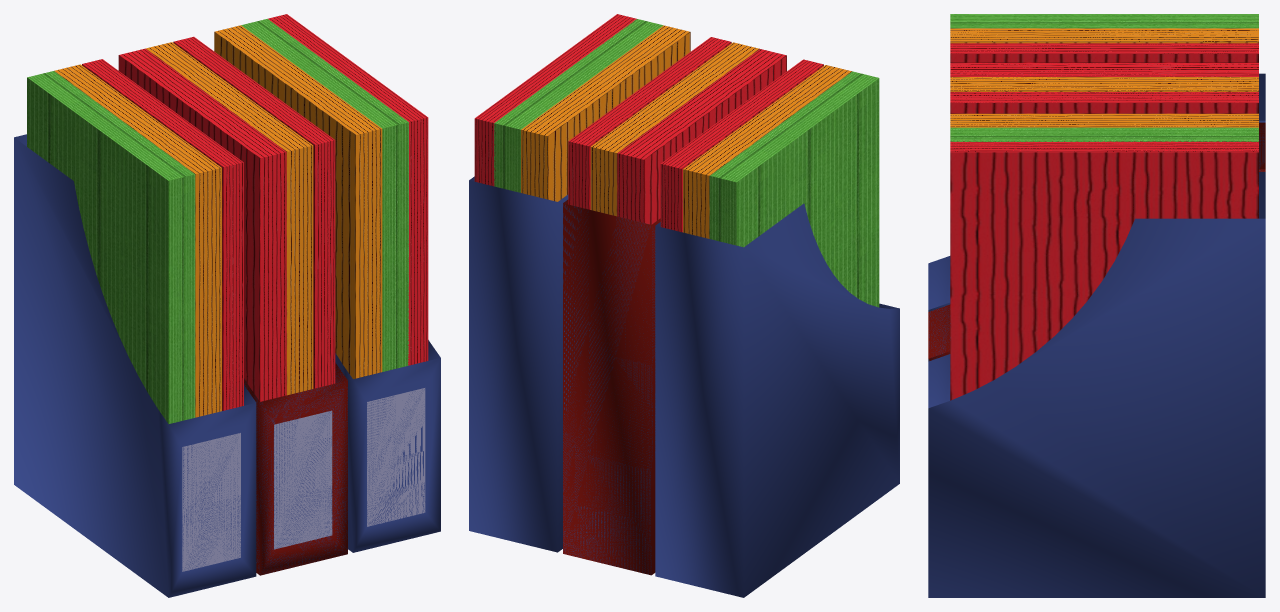
File: boxfile.dae
3 views of the same model, side by side, from view 1: azimuth 30°, elevation 25°; view 2: azimuth 150°, elevation 25°; view 3: azimuth 270°, elevation 25° (orthographic). The views are drawn at different scales.
Visible parts, largest first — view 1: group_1 (×2), group_11, group_8, group_10 (×2), group_4 (×2), group_12, group_7, group_5, group_2, group_9, group_3, group_6; view 2: group_1, group_10, group_4, group_11, group_8, group_12, group_7, group_2, group_5, group_3, group_9, group_6; view 3: group_10, group_6, group_9, group_3, group_5, group_2, group_7, group_8, group_11, group_12, group_4, group_1.
Part boxes in pixels (bbox=[...]): group_1 (×2): bbox=[14, 134, 256, 597]; group_11: bbox=[27, 71, 195, 423]; group_8: bbox=[214, 25, 382, 378]; group_10 (×2): bbox=[335, 340, 440, 552]; group_4 (×2): bbox=[244, 362, 347, 575]; group_12: bbox=[118, 48, 286, 401]; group_7: bbox=[145, 42, 313, 395]; group_5: bbox=[54, 64, 221, 417]; group_2: bbox=[241, 19, 408, 371]; group_9: bbox=[173, 36, 335, 388]; group_3: bbox=[82, 59, 243, 410]; group_6: bbox=[268, 14, 428, 365]; group_1: bbox=[655, 203, 899, 597]; group_10: bbox=[469, 176, 568, 552]; group_4: bbox=[563, 199, 660, 575]; group_11: bbox=[709, 71, 879, 307]; group_8: bbox=[521, 25, 690, 201]; group_12: bbox=[617, 49, 786, 224]; group_7: bbox=[590, 42, 759, 216]; group_2: bbox=[494, 19, 663, 192]; group_5: bbox=[683, 65, 851, 238]; group_3: bbox=[660, 59, 823, 232]; group_9: bbox=[568, 37, 731, 209]; group_6: bbox=[474, 14, 637, 186]; group_10: bbox=[928, 172, 1265, 597]; group_6: bbox=[950, 141, 1258, 400]; group_9: bbox=[950, 92, 1258, 113]; group_3: bbox=[950, 43, 1258, 62]; group_5: bbox=[950, 28, 1258, 43]; group_2: bbox=[950, 127, 1258, 141]; group_7: bbox=[950, 77, 1258, 91]; group_8: bbox=[950, 113, 1258, 127]; group_11: bbox=[950, 14, 1258, 28]; group_12: bbox=[950, 62, 1258, 76]; group_4: bbox=[928, 122, 1265, 361]; group_1: bbox=[928, 73, 1265, 311].
Size of the model in its own units: 14.65 by 14.4 by 20.93.
